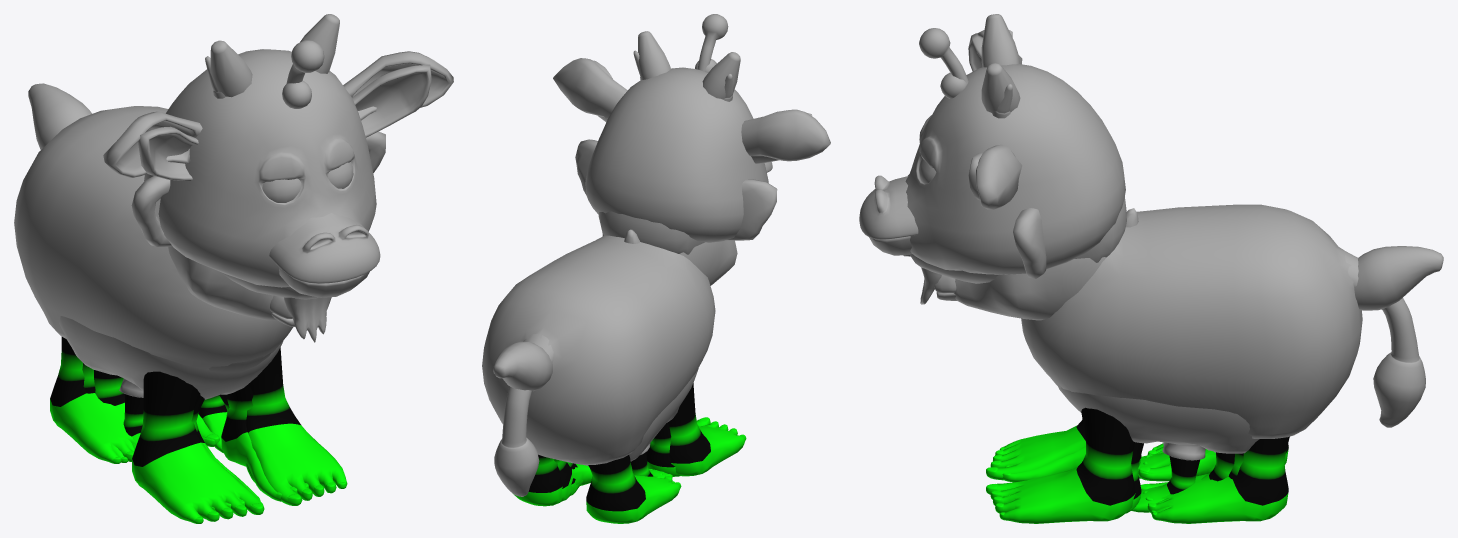
The model's file is Animales.fbx.
The picture shows the model from 3 angles, left to right: view 1: azimuth 30°, elevation 25°; view 2: azimuth 150°, elevation 25°; view 3: azimuth 270°, elevation 25°; orthographic projection. The views are drawn at different scales.
Parts seen in each view (by area): view 1: MSH_Cuerpo (×2), MSH_Cara (×3), MSH_Pata_Izq_F (×2), MSH_Pata_Der_F (×3), MSH_Pata_Izq_B (×2), MSH_Oreja_Der (×2), MSH_Boca_U, MSH_Oreja_Izq (×2), MSH_Cola, MSH_Oreja_I, MSH_Antena (×2), MSH_Cuerno_Izq (+5 smaller); view 2: MSH_Cuerpo (×2), MSH_Cara (×3), MSH_Cola (×2), MSH_Pata_Izq_F (×3), MSH_Pata_Izq_B, MSH_Oreja_Izq, MSH_Oreja_Der, MSH_Pata_Der_B (×2), MSH_Oreja_I, MSH_Cuerno_Der, MSH_Cuerno_Izq, MSH_Antena (+1 smaller); view 3: MSH_Cuerpo (×2), MSH_Cara (×3), MSH_Pata_Der_F (×2), MSH_Cola (×2), MSH_Pata_Der_B, MSH_Pata_Izq_F (×2), MSH_Boca_U, MSH_Oreja_Der, MSH_Oreja_D, MSH_Cuerno_Izq, MSH_Cuerno_Der, MSH_Antena.
Part boxes in pixels (x1=…): MSH_Cuerpo (×2): x1=14, y1=106, x2=293, y2=399; MSH_Cara (×3): x1=144, y1=49, x2=376, y2=320; MSH_Pata_Izq_F (×2): x1=123, y1=371, x2=264, y2=523; MSH_Pata_Der_F (×3): x1=198, y1=347, x2=347, y2=505; MSH_Pata_Izq_B (×2): x1=50, y1=337, x2=136, y2=463; MSH_Oreja_Der (×2): x1=343, y1=51, x2=453, y2=137; MSH_Boca_U: x1=269, y1=213, x2=380, y2=283; MSH_Oreja_Izq (×2): x1=103, y1=111, x2=202, y2=180; MSH_Cola: x1=28, y1=83, x2=92, y2=149; MSH_Oreja_I: x1=131, y1=176, x2=172, y2=246; MSH_Antena (×2): x1=282, y1=40, x2=324, y2=108; MSH_Cuerno_Izq: x1=210, y1=40, x2=252, y2=97; MSH_Cuerpo (×2): x1=482, y1=235, x2=715, y2=465; MSH_Cara (×3): x1=585, y1=67, x2=768, y2=285; MSH_Cola (×2): x1=493, y1=334, x2=553, y2=496; MSH_Pata_Izq_F (×3): x1=631, y1=383, x2=746, y2=478; MSH_Pata_Izq_B: x1=586, y1=455, x2=681, y2=523; MSH_Oreja_Izq: x1=741, y1=109, x2=830, y2=161; MSH_Oreja_Der: x1=553, y1=58, x2=627, y2=118; MSH_Pata_Der_B (×2): x1=513, y1=454, x2=592, y2=506; MSH_Oreja_I: x1=725, y1=179, x2=777, y2=240; MSH_Cuerno_Der: x1=638, y1=31, x2=670, y2=79; MSH_Cuerno_Izq: x1=702, y1=52, x2=740, y2=99; MSH_Antena: x1=697, y1=14, x2=728, y2=71; MSH_Cuerpo (×2): x1=1021, y1=204, x2=1362, y2=453; MSH_Cara (×3): x1=905, y1=64, x2=1126, y2=320; MSH_Pata_Der_F (×2): x1=986, y1=407, x2=1199, y2=523; MSH_Cola (×2): x1=1345, y1=246, x2=1443, y2=427; MSH_Pata_Der_B: x1=1140, y1=436, x2=1289, y2=523; MSH_Pata_Izq_F (×2): x1=986, y1=419, x2=1085, y2=482; MSH_Boca_U: x1=859, y1=175, x2=918, y2=239; MSH_Oreja_Der: x1=976, y1=144, x2=1022, y2=209; MSH_Oreja_D: x1=1013, y1=208, x2=1046, y2=278; MSH_Cuerno_Izq: x1=981, y1=14, x2=1020, y2=67; MSH_Cuerno_Der: x1=981, y1=63, x2=1020, y2=112; MSH_Antena: x1=919, y1=28, x2=968, y2=84.
Bounding box in the file's own units: 14.39 × 19.49 × 22.45.
